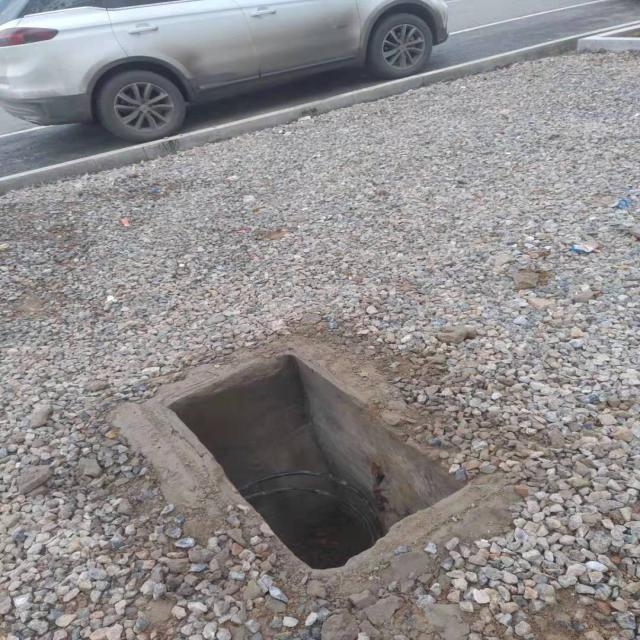Faulty: (160, 352, 470, 572)
